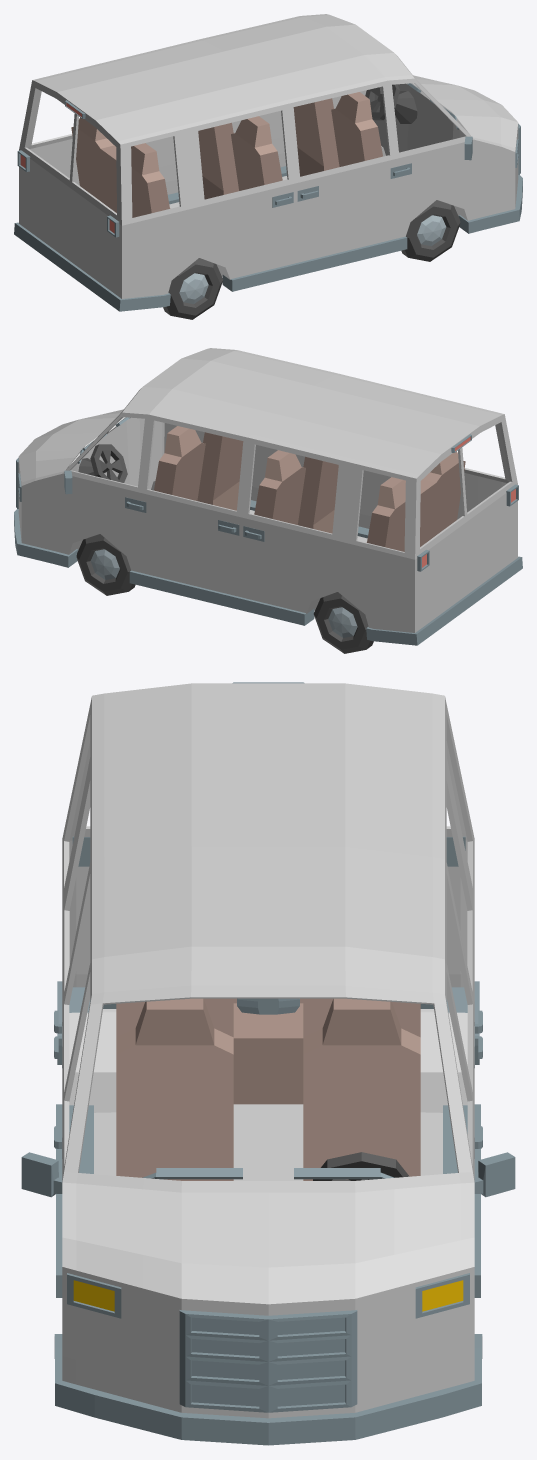
File: scene_dYXs6sbKj4.glb
The picture shows the model from 3 angles, top to bottom: view 1: azimuth 30°, elevation 25°; view 2: azimuth 150°, elevation 25°; view 3: azimuth 270°, elevation 25°; orthographic projection. The views are drawn at different scales.
Parts seen in each view (by area): view 1: Circle.006_Circle; view 2: Circle.006_Circle; view 3: Circle.006_Circle.
Part boxes in pixels (box(x1,y1,x2,y2)): Circle.006_Circle: box(14, 14, 522, 319); Circle.006_Circle: box(14, 348, 522, 653); Circle.006_Circle: box(21, 682, 515, 1445).
Bounding box in the file's own units: 23.38 × 10.07 × 11.36.
